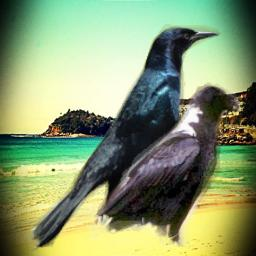Crow: (27, 24, 221, 251), (90, 79, 241, 247)
